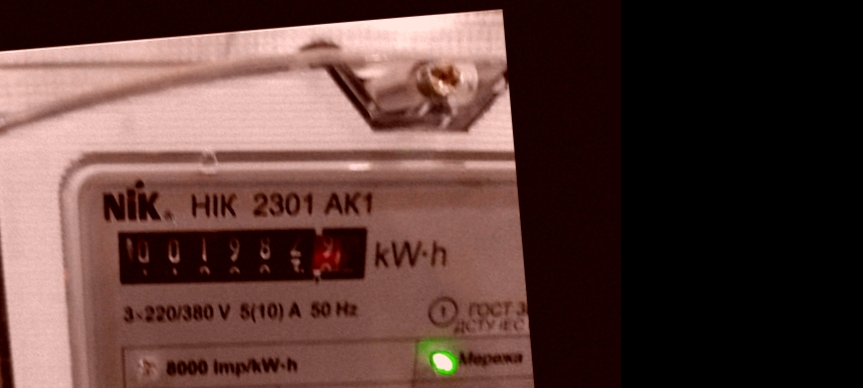0: (164, 235, 184, 266), (134, 235, 152, 265)
1: (196, 233, 210, 263)
2: (286, 228, 306, 258)
8: (256, 232, 274, 261)
9: (317, 231, 340, 261), (225, 233, 243, 264)
screen: (98, 196, 387, 315)
